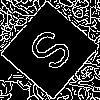S: (25, 25, 83, 81)
